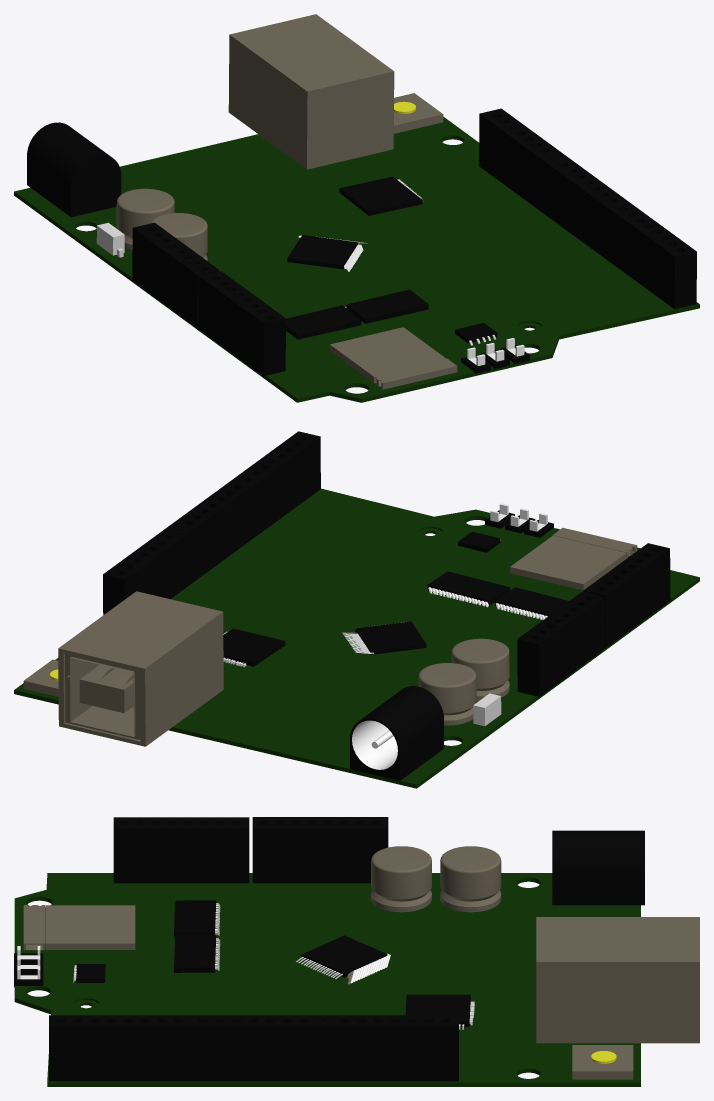
File: ARDUINO.glb
The picture shows the model from 3 angles, top to bottom: view 1: azimuth 30°, elevation 25°; view 2: azimuth 150°, elevation 25°; view 3: azimuth 270°, elevation 25°; orthographic projection. The views are drawn at different scales.
Parts seen in each view (by area): view 1: Cube, Cube.001, Cube.113, Cylinder, Cube.004, Cube.003, Cube.117, Cylinder.003, Cube.040, Cube.005, Cube.094, Cube.075 (+3 smaller); view 2: Cube, Cube.001, Cube.113, Cylinder, Cube.003, Cube.004, Cube.117, Cylinder.003, Cylinder.002, Cube.005, Cube.040, Cube.094 (+4 smaller); view 3: Cube, Cube.113, Cube.001, Cube.004, Cube.003, Cylinder, Cube.117, Cylinder.003, Cylinder.002, Cube.114, Cube.005, Cube.094 (+4 smaller).
Boxes of the visible parts, box(x1,y1,x2,y2) form: Cube: box(14, 117, 699, 402); Cube.001: box(228, 14, 394, 169); Cube.113: box(479, 108, 696, 309); Cylinder: box(27, 122, 121, 217); Cube.004: box(199, 271, 285, 376); Cube.003: box(132, 222, 219, 327); Cube.117: box(329, 327, 457, 389); Cylinder.003: box(116, 188, 174, 249); Cube.040: box(339, 176, 422, 215); Cube.005: box(287, 235, 358, 269); Cube.094: box(346, 289, 428, 323); Cube.075: box(286, 305, 361, 339); Cube: box(14, 488, 699, 788); Cube.001: box(58, 591, 223, 746); Cube.113: box(103, 431, 320, 614); Cylinder: box(350, 686, 443, 780); Cube.003: box(517, 592, 604, 696); Cube.004: box(583, 543, 670, 648); Cube.117: box(510, 528, 637, 590); Cylinder.003: box(418, 663, 476, 725); Cylinder.002: box(451, 638, 509, 701); Cube.005: box(355, 621, 426, 654); Cube.040: box(223, 628, 285, 666); Cube.094: box(427, 571, 509, 605); Cube: box(14, 873, 640, 1086); Cube.113: box(49, 1015, 458, 1081); Cube.001: box(536, 917, 699, 1043); Cube.004: box(113, 817, 249, 883); Cube.003: box(252, 817, 388, 883); Cylinder: box(552, 830, 644, 905); Cube.117: box(23, 905, 135, 950); Cylinder.003: box(440, 846, 501, 912); Cylinder.002: box(371, 846, 431, 912); Cube.114: box(572, 1045, 633, 1079); Cube.005: box(301, 935, 387, 977); Cube.094: box(174, 935, 216, 972).
Bounding box in the file's own units: 16.12 × 3.22 × 22.57.
